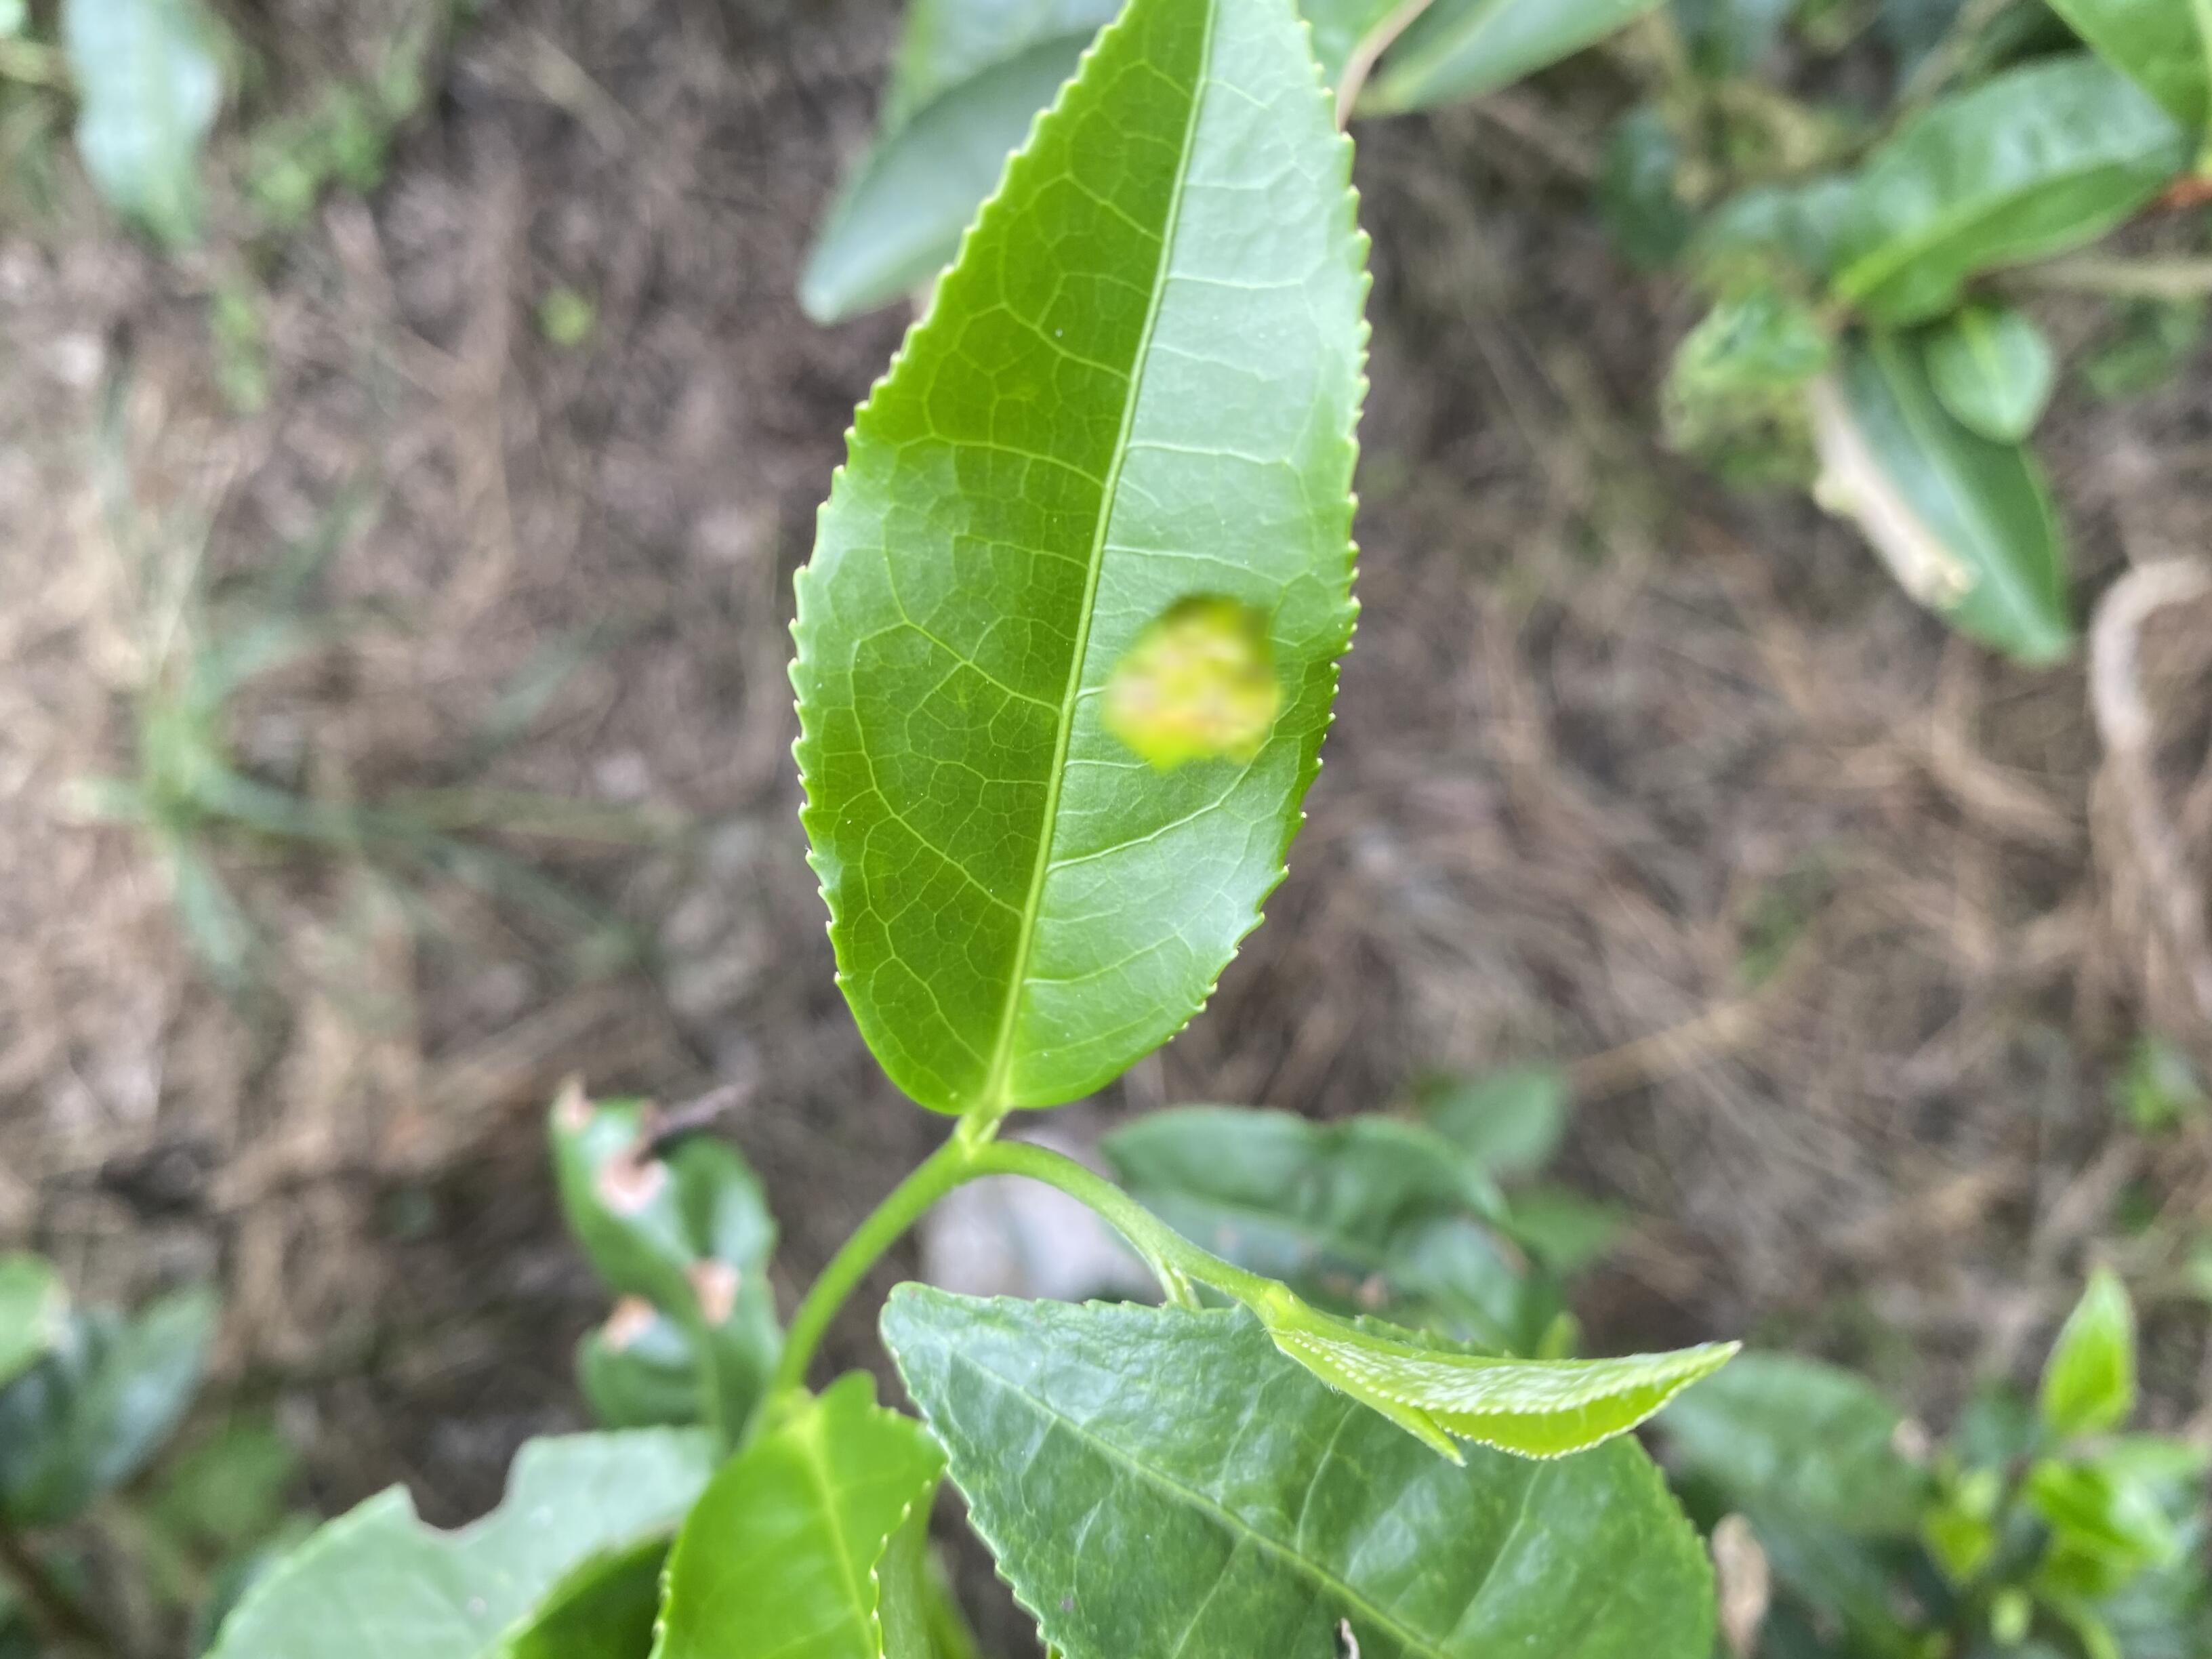chabing_low: (787, 2, 1378, 1117)
